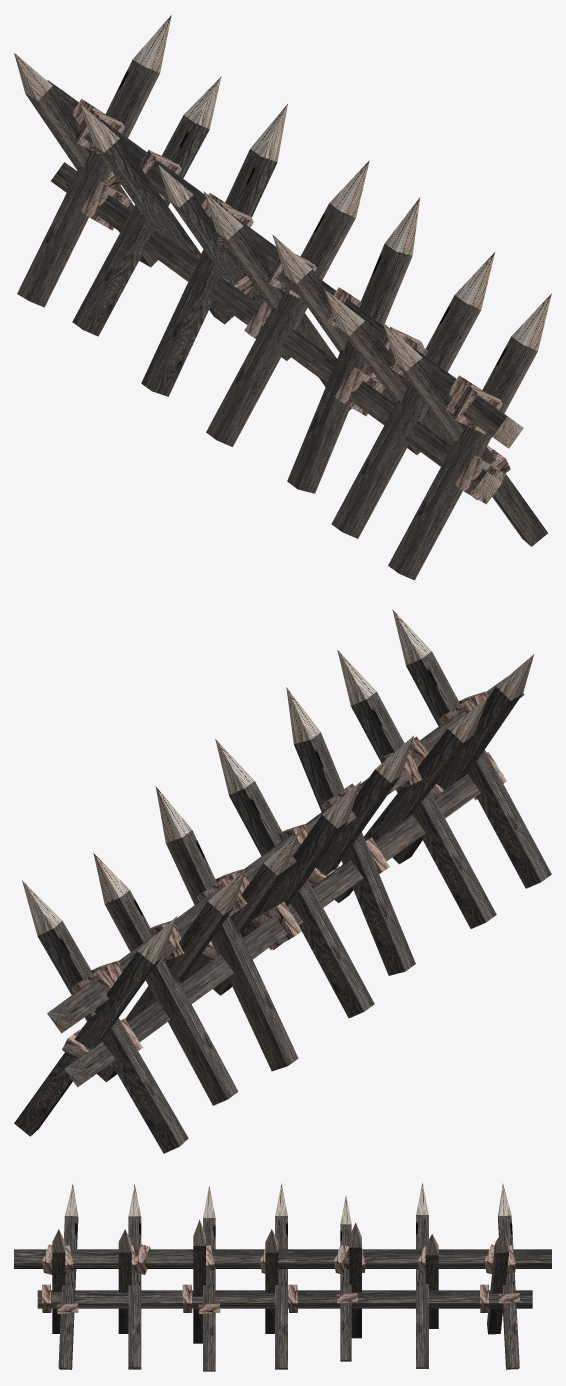
The model's file is palisade.fbx.
3 views of the same model, one above another, from view 1: azimuth 30°, elevation 25°; view 2: azimuth 150°, elevation 25°; view 3: azimuth 270°, elevation 25° (orthographic). The views are drawn at different scales.
Visible parts, largest first — view 1: Kostka.034; view 2: Kostka.034; view 3: Kostka.034.
Part boxes in pixels (<box>): Kostka.034: <box>14,15,551,580</box>; Kostka.034: <box>14,609,551,1153</box>; Kostka.034: <box>14,1182,551,1371</box>.
Size of the model in its own units: 1084 by 1640 by 5136.
